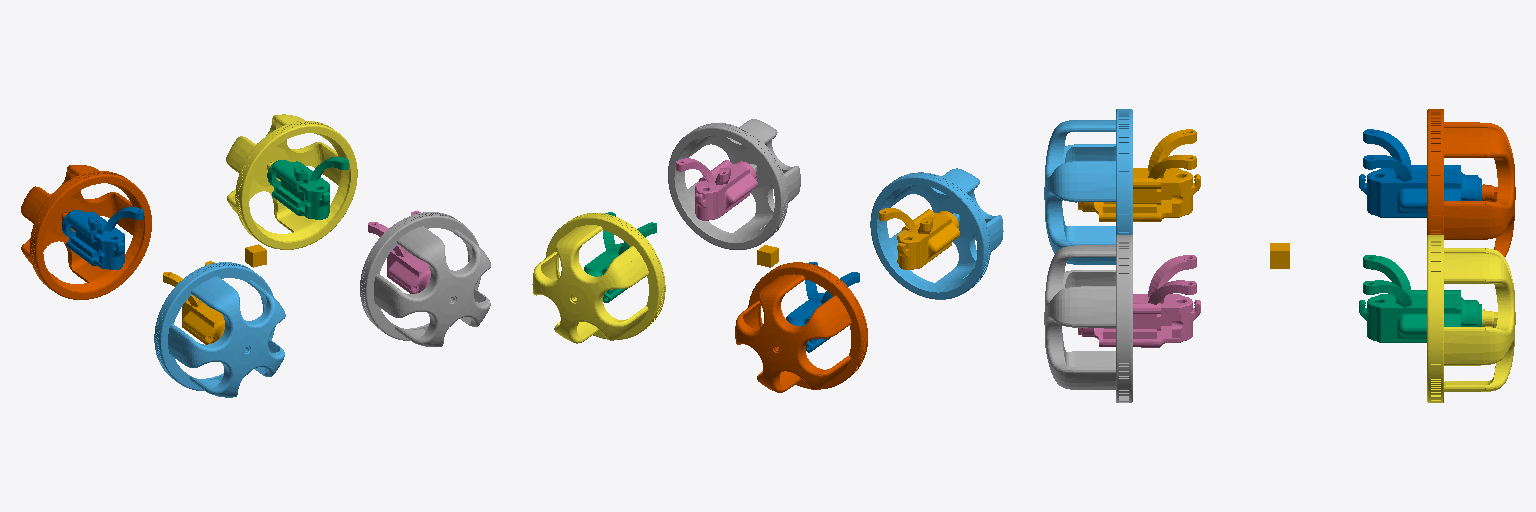
robot.urdf — edu_rover:
<?xml version = "1.0"?>
<robot name = "edu_rover">
<link name = "dummy_link">
    <collision>
        <origin xyz = "0 0 0" rpy = "0 0 0" />
        <geometry>
            <box size = "0.15 0.1 0.036"/>
        </geometry>
    </collision>
    <visual>
        <geometry>
            <box size = "0.01 0.01 0.01"/>
        </geometry>
    </visual>
    </link>

    <link name = "base_link">            
        <inertial>
            <origin xyz = "0 0 0" rpy = "0 0 0" />
            <mass value = "0.08"/>
            <inertia ixx = "0.00015864" ixy = "0.0" ixz = "0.0" iyy = "7.53066666667e-05" iyz = "0.0" izz = "0.0002166666667"/>
        </inertial>

        <collision>
            <origin xyz = "0 0 0" rpy = "0 0 0" />
            <geometry>
                <box size = "0.15 0.1 0.036"/>
            </geometry>
        </collision>

        <visual>
            <origin xyz ="0.011 -0.13 0" rpy = "0 0 4.72984"/>
            <geometry>
                <mesh filename="package://edu_rover/models/base.STL"/>
            </geometry>
        </visual>
    </link>

    <gazebo reference="base_link">
        <mu1>10.0</mu1>
        <mu2>10.0</mu2>
        <material>Gazebo/Blue</material>
    </gazebo>


    <joint name = "dummy_joint" type = "fixed">
        <parent link = "dummy_link"/>
        <child link = "base_link"/>
    </joint>

    <gazebo>
        <plugin name="gazebo_ros_control" filename="libgazebo_ros_control.so">
        <robotNamespace>/edu_rover</robotNamespace>
        </plugin>
    </gazebo>
<!-- left_front ()-[III]-()
                   [III]
                   [III]
                ()-[III]-()
-->
    <link name = "left_front_knuckle">
        <inertial>
            <origin xyz = "0 0 0" rpy = "0 0 0"/>
            <mass value = "0.012"/>
            <inertia ixx = "2.9e-06" ixy = "0.0" ixz = "0.0" iyy = "8.0e-07" iyz = "0.0" izz = "2.9e-06"/>
        </inertial>

        <collision>
            <origin xyz = "0 0.025 0" rpy = "0 0 0"/>
            <geometry>
                <box size = "0.02 0.05 0.02" />
            </geometry>
        </collision>

        <visual>
            <origin xyz = "0 0 0" rpy = "1.5708 0 0"/>
            <geometry>
                <mesh filename="package://edu_rover/models/knuckle.STL"/>
            </geometry>
        </visual>
    </link>

    <gazebo reference = "left_front_knuckle">
        <material>Gazebo/Grey</material>
    </gazebo>

    <joint name = "left_front_knuckle_joint" type = "revolute">
        <parent link = "base_link"/>
        <child link = "left_front_knuckle"/>
        <origin xyz = "0.075 0.05 0" rpys = "0 0 0 "/>
        <limit lower = "-1.5708" upper = "0.52" effort = "1" velocity = "0.005"/>
        <axis xyz = "0 0 1"/> 
    </joint>

    <transmission name="tran1">
        <type>transmission_interface/SimpleTransmission</type>
        <joint name="left_front_knuckle_joint">
        <hardwareInterface>EffortJointInterface</hardwareInterface>
        </joint>
        <actuator name="left_front_servo">
        <hardwareInterface>EffortJointInterface</hardwareInterface>
        <mechanicalReduction>1</mechanicalReduction>
        </actuator>
    </transmission>

    <link name = "left_front_wheel">
        <inertial>
            <origin xyz = "0 0 0" rpy = "0 0 0"/>
            <mass value = "0.03"/>
            <inertia ixx = "1.225e-05" ixy = "0.0" ixz = "0.0" iyy = "1.225e-05" iyz = "0.0" izz = "2.4e-05"/>
        </inertial>

        <collision>
            <origin xyz = "0 0 0" rpy = "1.5708 0 0"/>
            <geometry>
                <cylinder radius = "0.04" length = "0.01"/>
            </geometry>
        </collision>

        <visual>
            <origin xyz = "0 0 0" rpy = "0 0 0"/>
            <geometry>
                <mesh filename="package://edu_rover/models/wheel.STL"/>
            </geometry>
        </visual>
    </link>

    <gazebo reference="left_front_wheel">
        <kp>1000.0</kp>
        <kd>1000.0</kd>
        <mu1>10.0</mu1>
        <mu2>10.0</mu2>
        <material>Gazebo/Black</material>
    </gazebo>


    <joint name = "left_front_wheel_joint" type = "continuous">
        <parent link = "left_front_knuckle"/>
        <child link = "left_front_wheel"/>
        <origin xyz = "0 0.05 0" rpy = "0 0 0" />
        <limit effort = "1" velocity = "0.05" />
        <axis xyz = " 0 1 0"/>
    </joint>

    <transmission name="tran2">
        <type>transmission_interface/SimpleTransmission</type>
        <joint name="left_front_wheel_joint">
        <hardwareInterface>EffortJointInterface</hardwareInterface>
        </joint>
        <actuator name="left_front_motor">
        <hardwareInterface>EffortJointInterface</hardwareInterface>
        <mechanicalReduction>1</mechanicalReduction>
        </actuator>
    </transmission>

    <!--        ()-[III]-()
                   [III]
                   [III]
      left_back ()-[III]-()
-->
    <link name = "left_back_knuckle">
        <inertial>
            <origin xyz = "0 0 0" rpy = "0 0 0"/>
            <mass value = "0.012"/>
            <inertia ixx = "2.9e-06" ixy = "0.0" ixz = "0.0" iyy = "8.0e-07" iyz = "0.0" izz = "2.9e-06"/>
        </inertial>

        <collision>
            <origin xyz = "0 0.025 0" rpy = "0 0 0"/>
            <geometry>
                <box size = "0.02 0.05 0.02" />
            </geometry>
        </collision>

        <visual>
            <origin xyz = "0 0 0" rpy = "1.5708 0 0"/>
            <geometry>
                <mesh filename="package://edu_rover/models/knuckle.STL"/>
            </geometry>
        </visual>
    </link>

    <gazebo reference = "left_back_knuckle">
        <material>Gazebo/Grey</material>
    </gazebo>

    <joint name = "left_back_knuckle_joint" type = "revolute">
        <parent link = "base_link"/>
        <child link = "left_back_knuckle"/>
        <origin xyz = "-0.075 0.05 0" rpys = "0 0 0"/>
        <limit lower = "1.5708" upper = "-0.52" effort = "1" velocity = "0.005"/>
        <axis xyz = "0 0 1"/> 
    </joint>

    <transmission name="tran3">
        <type>transmission_interface/SimpleTransmission</type>
        <joint name="left_back_knuckle_joint">
        <hardwareInterface>EffortJointInterface</hardwareInterface>
        </joint>
        <actuator name="left_back_servo">
        <hardwareInterface>EffortJointInterface</hardwareInterface>
        <mechanicalReduction>1</mechanicalReduction>
        </actuator>
    </transmission>

    <link name = "left_back_wheel">
        <inertial>
            <origin xyz = "0 0 0" rpy = "0 0 0"/>
            <mass value = "0.03"/>
            <inertia ixx = "1.225e-05" ixy = "0.0" ixz = "0.0" iyy = "1.225e-05" iyz = "0.0" izz = "2.4e-05"/>
        </inertial>

        <collision>
            <origin xyz = "0 0 0" rpy = "1.5708 0 0"/>
            <geometry>
                <cylinder radius = "0.04" length = "0.01"/>
            </geometry>
        </collision>

        <visual>
            <origin xyz = "0 0 0" rpy = "0 0 0"/>
            <geometry>
                <mesh filename="package://edu_rover/models/wheel.STL"/>
            </geometry>
        </visual>
    </link>

    <gazebo reference="left_back_wheel">
        <kp>1000.0</kp>
        <kd>1000.0</kd>
        <mu1>10.0</mu1>
        <mu2>10.0</mu2>
        <material>Gazebo/Black</material>
    </gazebo>

    <joint name = "left_back_wheel_joint" type = "continuous">
        <parent link = "left_back_knuckle"/>
        <child link = "left_back_wheel"/>
        <origin xyz = "0 0.05 0" rpy = "0 0 0" />
        <limit effort = "1" velocity = "0.05" />
        <axis xyz = " 0 1 0"/>
    </joint>

    <transmission name="tran4">
        <type>transmission_interface/SimpleTransmission</type>
        <joint name="left_back_wheel_joint">
        <hardwareInterface>EffortJointInterface</hardwareInterface>
        </joint>
        <actuator name="left_back_motor">
        <hardwareInterface>EffortJointInterface</hardwareInterface>
        <mechanicalReduction>1</mechanicalReduction>
        </actuator>
    </transmission>

    <!-- ()-[III]-()right_front 
            [III]
            [III]
         ()-[III]-()
-->
    <link name = "right_front_knuckle">
        <inertial>
            <origin xyz = "0 0 0" rpy = "0 0 0"/>
            <mass value = "0.012"/>
            <inertia ixx = "2.9e-06" ixy = "0.0" ixz = "0.0" iyy = "8.0e-07" iyz = "0.0" izz = "2.9e-06"/>
        </inertial>

        <collision>
            <origin xyz = "0 -0.025 0" rpy = "0 0 0"/>
            <geometry>
                <box size = "0.02 0.05 0.02" />
            </geometry>
        </collision>

        <visual>
            <origin xyz = "0 0 0" rpy = "1.5708 0 3.14159"/>
            <geometry>
                <mesh filename="package://edu_rover/models/knuckle.STL"/>
            </geometry>
        </visual>
    </link>

    <gazebo reference = "right_front_knuckle">
        <material>Gazebo/Grey</material>
    </gazebo>

    <joint name = "right_front_knuckle_joint" type = "revolute">
        <parent link = "base_link"/>
        <child link = "right_front_knuckle"/>
        <origin xyz = "0.075 -0.05 0" rpys = "0 0 0 "/>
        <limit lower = "1.5708" upper = "-0.52" effort = "1" velocity = "0.005"/>
        <axis xyz = "0 0 1"/> 
    </joint>

    <transmission name="tran5">
        <type>transmission_interface/SimpleTransmission</type>
        <joint name="right_front_knuckle_joint">
        <hardwareInterface>EffortJointInterface</hardwareInterface>
        </joint>
        <actuator name="right_front_servo">
        <hardwareInterface>EffortJointInterface</hardwareInterface>
        <mechanicalReduction>1</mechanicalReduction>
        </actuator>
    </transmission>

    <link name = "right_front_wheel">
        <inertial>
            <origin xyz = "0 0 0" rpy = "0 0 0"/>
            <mass value = "0.03"/>
            <inertia ixx = "1.225e-05" ixy = "0.0" ixz = "0.0" iyy = "1.225e-05" iyz = "0.0" izz = "2.4e-05"/>
        </inertial>

        <collision>
            <origin xyz = "0 0 0" rpy = "1.5708 0 0"/>
            <geometry>
                <cylinder radius = "0.04" length = "0.01"/>
            </geometry>
        </collision>

        <visual>
            <origin xyz = "0 0 0" rpy = "0 0 3.14159"/>
            <geometry>
                <mesh filename="package://edu_rover/models/wheel.STL"/>
            </geometry>
        </visual>
    </link>

    <gazebo reference="right_front_wheel">
        <kp>1000.0</kp>
        <kd>1000.0</kd>
        <mu1>10.0</mu1>
        <mu2>10.0</mu2>
        <material>Gazebo/Black</material>
    </gazebo>

    <joint name = "right_front_wheel_joint" type = "continuous">
        <parent link = "right_front_knuckle"/>
        <child link = "right_front_wheel"/>
        <origin xyz = "0 -0.05 0" rpy = "0 0 0" />
        <limit effort = "1" velocity = "0.05" />
        <axis xyz = " 0 1 0"/>
    </joint>

    <transmission name="tran6">
        <type>transmission_interface/SimpleTransmission</type>
        <joint name="right_front_wheel_joint">
        <hardwareInterface>EffortJointInterface</hardwareInterface>
        </joint>
        <actuator name="right_front_motor">
        <hardwareInterface>EffortJointInterface</hardwareInterface>
        <mechanicalReduction>1</mechanicalReduction>
        </actuator>
    </transmission>

    <!-- ()-[III]-()
            [III]
            [III]
         ()-[III]-()right_back 
-->
    <link name = "right_back_knuckle">
        <inertial>
            <origin xyz = "0 0 0" rpy = "0 0 0"/>
            <mass value = "0.012"/>
            <inertia ixx = "2.9e-06" ixy = "0.0" ixz = "0.0" iyy = "8.0e-07" iyz = "0.0" izz = "2.9e-06"/>
        </inertial>

        <collision>
            <origin xyz = "0 -0.025 0" rpy = "0 0 0"/>
            <geometry>
                <box size = "0.02 0.05 0.02" />
            </geometry>
        </collision>

        <visual>
            <origin xyz = "0 0 0" rpy = "1.5708 0 3.14159"/>
            <geometry>
                <mesh filename="package://edu_rover/models/knuckle.STL"/>
            </geometry>
        </visual>
    </link>

    <gazebo reference = "right_back_knuckle">
        <material>Gazebo/Grey</material>
    </gazebo>

    <joint name = "right_back_knuckle_joint" type = "revolute">
        <parent link = "base_link"/>
        <child link = "right_back_knuckle"/>
        <origin xyz = "-0.075 -0.05 0" rpys = "0 0 0"/>
        <limit lower = "-1.5708" upper = "0.52" effort = "1" velocity = "0.005"/>
        <axis xyz = "0 0 1"/> 
    </joint>

    <transmission name="tran7">
        <type>transmission_interface/SimpleTransmission</type>
        <joint name="right_back_knuckle_joint">
        <hardwareInterface>EffortJointInterface</hardwareInterface>
        </joint>
        <actuator name="right_back_servo">
        <hardwareInterface>EffortJointInterface</hardwareInterface>
        <mechanicalReduction>1</mechanicalReduction>
        </actuator>
    </transmission>

    <link name = "right_back_wheel">
        <inertial>
            <origin xyz = "0 0 0" rpy = "0 0 0"/>
            <mass value = "0.03"/>
            <inertia ixx = "1.225e-05" ixy = "0.0" ixz = "0.0" iyy = "1.225e-05" iyz = "0.0" izz = "2.4e-05"/>
        </inertial>

        <collision>
            <origin xyz = "0 0 0" rpy = "1.5708 0 0"/>
            <geometry>
                <cylinder radius = "0.04" length = "0.01"/>
            </geometry>
        </collision>

        <visual>
            <origin xyz = "0 0 0" rpy = "0 0 3.14159"/>
            <geometry>
                <mesh filename="package://edu_rover/models/wheel.STL"/>
            </geometry>
        </visual>
    </link>

    <gazebo reference="right_back_wheel">
        <kp>1000.0</kp>
        <kd>1000.0</kd>
        <mu1>10.0</mu1>
        <mu2>10.0</mu2>
        <material>Gazebo/Black</material>
    </gazebo>

    <joint name = "right_back_wheel_joint" type = "continuous">
        <parent link = "right_back_knuckle"/>
        <child link = "right_back_wheel"/>
        <origin xyz = "0 -0.05 0" rpy = "0 0 0" />
        <limit effort = "1" velocity = "0.05" />
        <axis xyz = " 0 1 0"/>
    </joint>

    <transmission name="tran8">
        <type>transmission_interface/SimpleTransmission</type>
        <joint name="right_back_wheel_joint">
        <hardwareInterface>EffortJointInterface</hardwareInterface>
        </joint>
        <actuator name="right_back_motor">
        <hardwareInterface>EffortJointInterface</hardwareInterface>
        <mechanicalReduction>1</mechanicalReduction>
        </actuator>
    </transmission>
</robot>

--- Render facts (derived) ---
Views: 3 orthographic renders of the robot side by side, from view 1: azimuth 30°, elevation 25°; view 2: azimuth 150°, elevation 25°; view 3: azimuth 270°, elevation 25°.
Robot: edu_rover — 10 links, 9 joints (4 revolute, 4 continuous, 1 fixed); root link dummy_link; default pose: every joint at zero.
Visible links, largest first — view 1: right_back_wheel, right_front_wheel, left_front_wheel, left_back_wheel, left_back_knuckle, left_front_knuckle, right_front_knuckle, right_back_knuckle; view 2: left_back_wheel, left_front_wheel, right_back_wheel, right_front_wheel, right_front_knuckle, right_back_knuckle, left_front_knuckle, left_back_knuckle; view 3: right_front_wheel, left_front_wheel, right_back_wheel, left_back_wheel, left_front_knuckle, left_back_knuckle, right_back_knuckle, right_front_knuckle.
Boxes of the visible links, box(x1,y1,x2,y2) form: right_back_wheel: box(154, 262, 285, 397); right_front_wheel: box(360, 212, 490, 346); left_front_wheel: box(226, 114, 357, 249); left_back_wheel: box(21, 165, 151, 299); left_back_knuckle: box(62, 207, 143, 269); left_front_knuckle: box(267, 157, 348, 219); right_front_knuckle: box(368, 211, 430, 293); right_back_knuckle: box(163, 261, 224, 344); left_back_wheel: box(735, 262, 867, 392); left_front_wheel: box(532, 213, 665, 343); right_back_wheel: box(870, 168, 1003, 299); right_front_wheel: box(668, 119, 800, 249); right_front_knuckle: box(676, 158, 757, 220); right_back_knuckle: box(879, 208, 959, 269); left_front_knuckle: box(584, 212, 656, 302); left_back_knuckle: box(786, 262, 859, 352); right_front_wheel: box(1044, 235, 1132, 402); left_front_wheel: box(1427, 235, 1515, 402); right_back_wheel: box(1044, 109, 1132, 264); left_back_wheel: box(1427, 109, 1515, 256); left_front_knuckle: box(1359, 255, 1481, 342); left_back_knuckle: box(1359, 129, 1481, 217); right_back_knuckle: box(1078, 129, 1200, 221); right_front_knuckle: box(1078, 255, 1200, 347).
Size in the robot's own frame: 0.235 by 0.238 by 0.085 metres.
Meshes: 3 distinct files referenced, 8 mesh visuals loaded (2 binary STL); not drawn: 1 (reference not matched to a file when rendering).